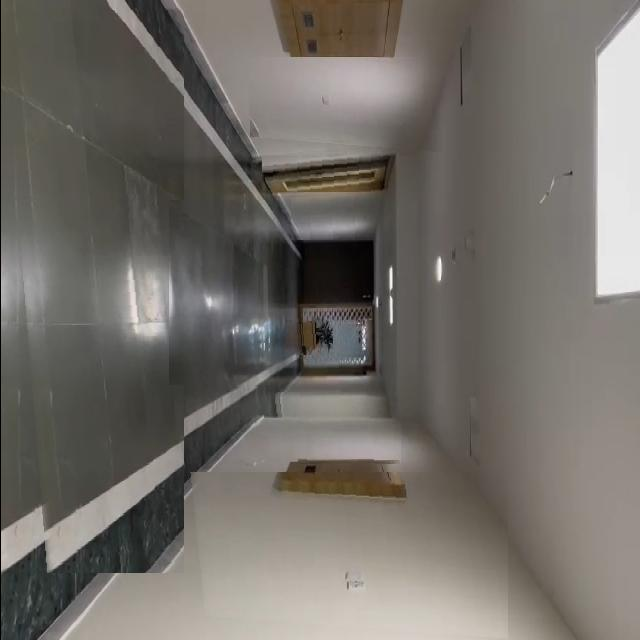door: (261, 145, 389, 192)
floor: (0, 3, 183, 573), (168, 200, 302, 388)
furniture: (292, 316, 332, 356)
wall: (186, 472, 506, 640), (245, 57, 445, 153), (250, 392, 400, 464), (290, 192, 388, 240)
